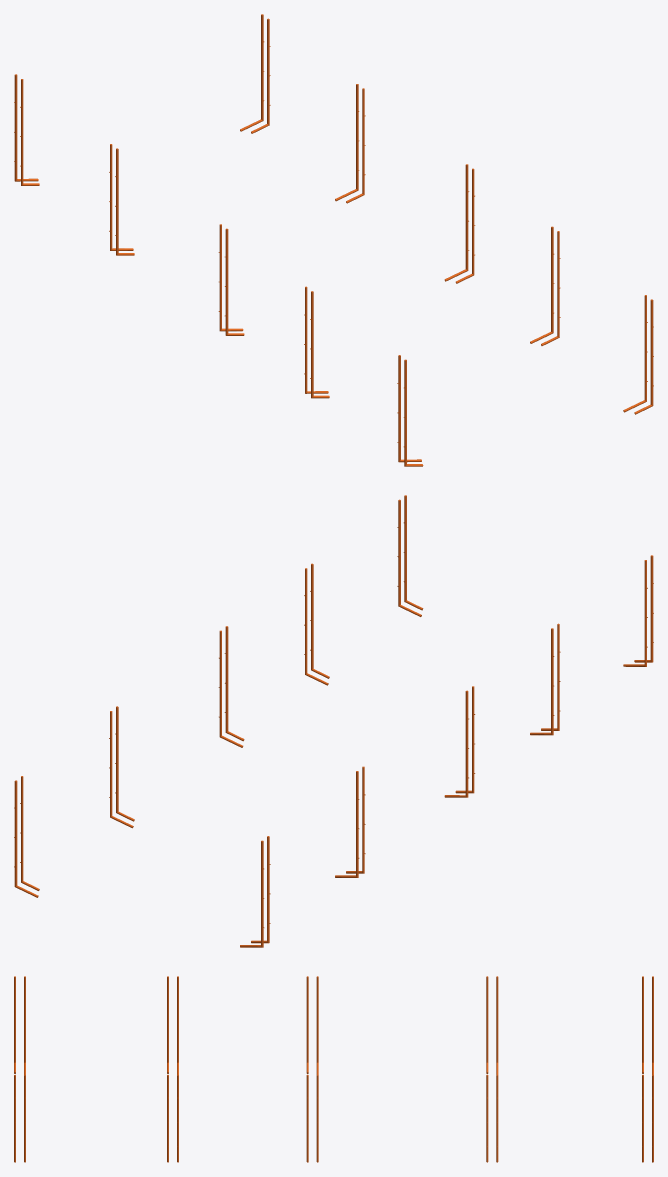
The model's file is pipa.glb.
3 renders of one model, top to bottom at view 1: azimuth 30°, elevation 25°; view 2: azimuth 150°, elevation 25°; view 3: azimuth 270°, elevation 25°, orthographic. The views are drawn at different scales.
Visible parts, largest first — view 1: pipa; view 2: pipa; view 3: pipa.
Part boxes in pixels (x1=…): pipa: x1=14, y1=14, x2=653, y2=466; pipa: x1=14, y1=495, x2=653, y2=947; pipa: x1=14, y1=976, x2=653, y2=1162.
Bounding box in the file's own units: 17.78 × 7.58 × 48.11.
